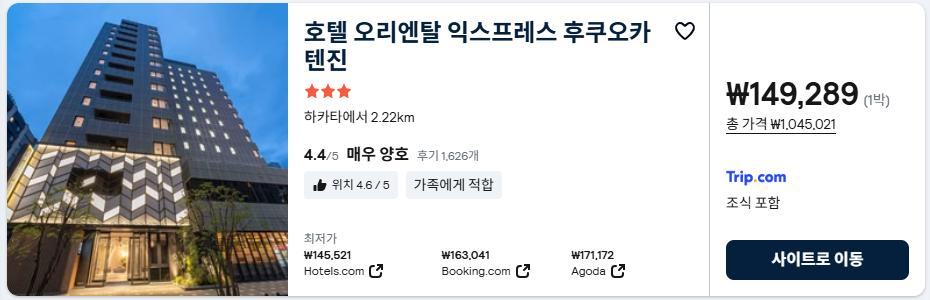button: (727, 238, 914, 283), (723, 115, 834, 135), (609, 265, 633, 281), (513, 263, 535, 280), (365, 265, 382, 278)
